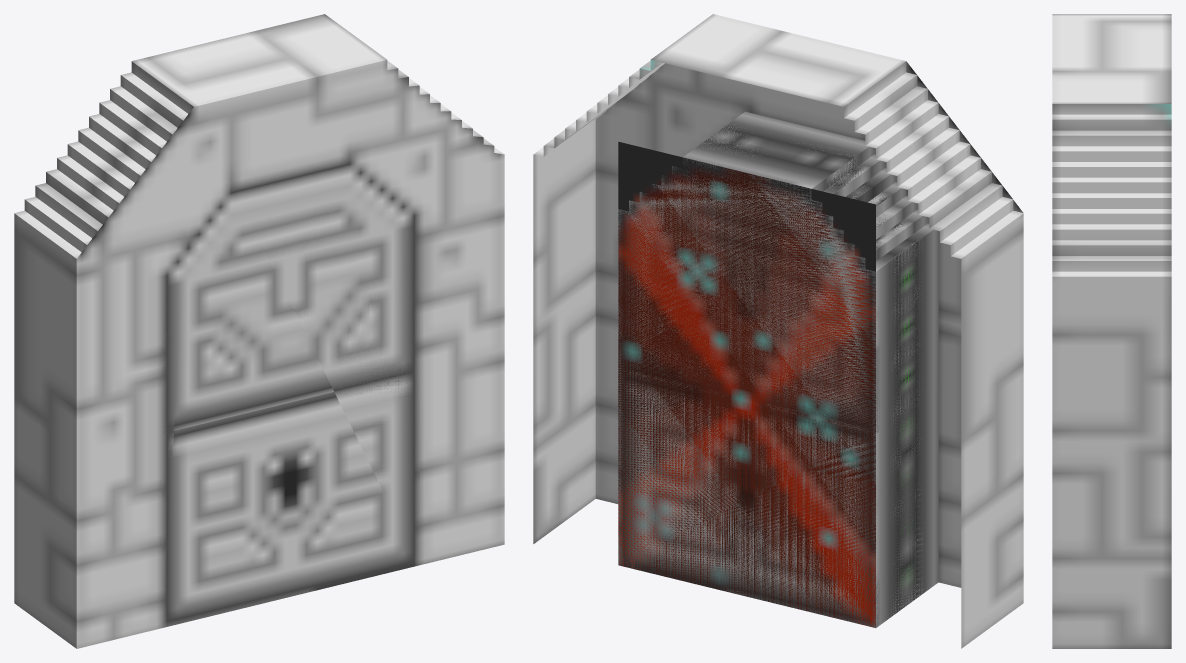
The model's file is mod_time_fut_doorframe.fbx.
3 renders of one model, left to right at view 1: azimuth 30°, elevation 25°; view 2: azimuth 150°, elevation 25°; view 3: azimuth 270°, elevation 25°, orthographic. The views are drawn at different scales.
Visible parts, largest first — view 1: mod_time_fut_doorframe, mod_time_fut_door_a, mod_time_fut_door_b; view 2: mod_time_fut_doorframe, mod_time_fut_door_a, mod_time_fut_door_b; view 3: mod_time_fut_doorframe.
Boxes of the visible parts, x1,y1,x2,y2 form: mod_time_fut_doorframe: [14, 14, 504, 648]; mod_time_fut_door_a: [162, 157, 419, 433]; mod_time_fut_door_b: [162, 374, 419, 627]; mod_time_fut_doorframe: [533, 14, 1023, 648]; mod_time_fut_door_a: [618, 111, 938, 433]; mod_time_fut_door_b: [618, 372, 938, 627]; mod_time_fut_doorframe: [1052, 14, 1171, 648].
Size of the model in its own units: 16.56 by 18.99 by 4.19.
